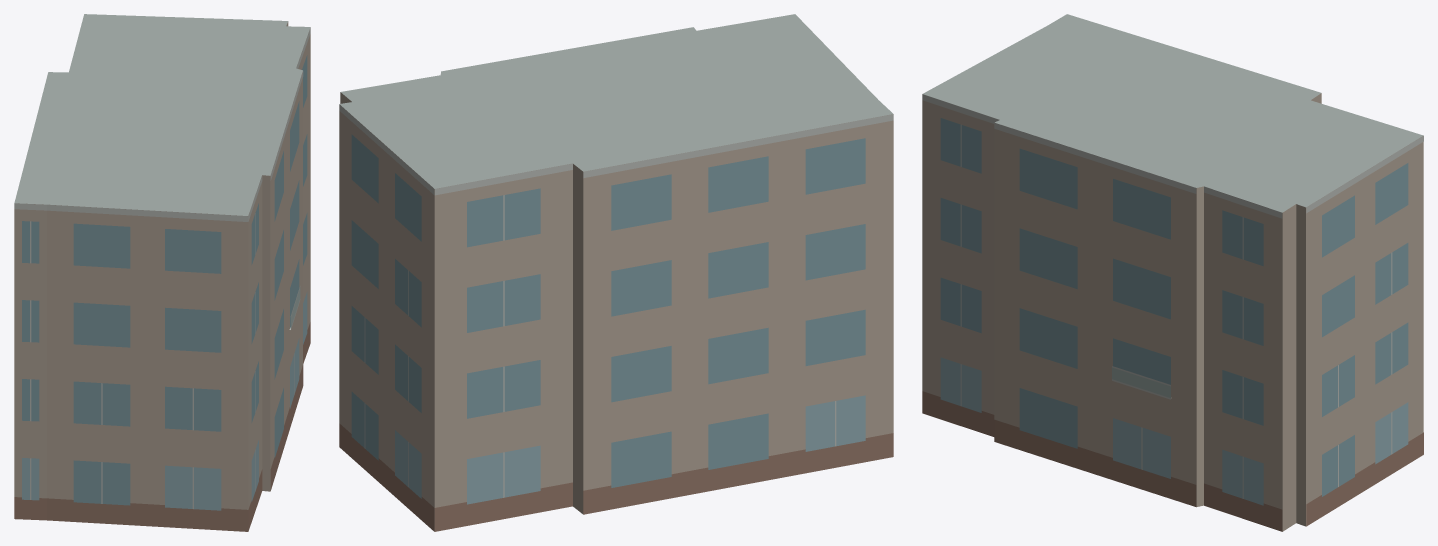
Rendered from survey-upis-32693672.glb.
3 renders of one model, left to right at view 1: azimuth 30°, elevation 25°; view 2: azimuth 150°, elevation 25°; view 3: azimuth 270°, elevation 25°, orthographic. The views are drawn at different scales.
Parts seen in each view (by area): view 1: survey-upis-32693672.tmp; view 2: survey-upis-32693672.tmp; view 3: survey-upis-32693672.tmp.
Boxes of the visible parts, x1,y1,x2,y2 form: survey-upis-32693672.tmp: (14, 14, 310, 531); survey-upis-32693672.tmp: (339, 14, 893, 531); survey-upis-32693672.tmp: (922, 14, 1423, 531).
Size of the model in its own units: 17.1 by 12.8 by 18.23.
